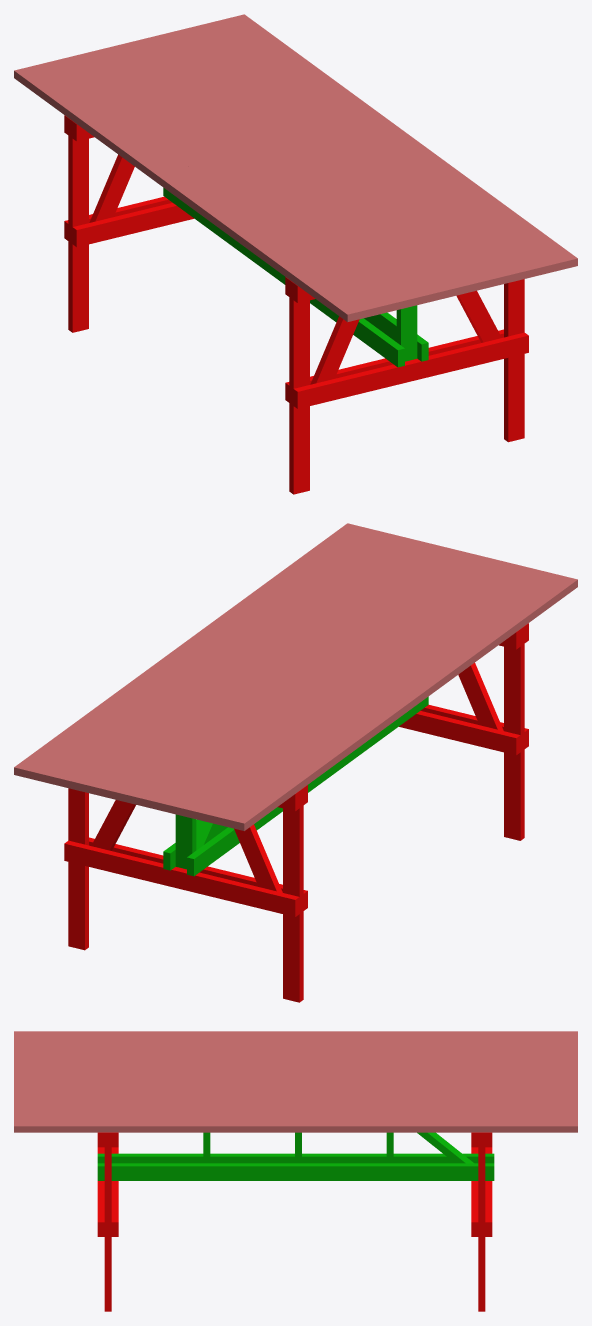
Rendered from result.glb.
3 renders of one model, top to bottom at view 1: azimuth 30°, elevation 25°; view 2: azimuth 150°, elevation 25°; view 3: azimuth 270°, elevation 25°, orthographic. The views are drawn at different scales.
Parts seen in each view (by area): view 1: 473cdb38-ce37-46b7-9735-61b5922310ae__Box, ce4c11eb-2231-41ee-94fe-1b60ac8f87da__undefined, 64e613a2-877d-4d5d-9598-2cf51b2af26d__undefined, 9a7f3290-f7af-41f7-a9cb-5846883ffda8__undefined, 4a5181dc-a1b4-45ff-892d-87f7e3f23f0a__undefined, 87a45efd-ccb7-475d-8371-d7f0d210c94f__undefined, 7ace6f95-4724-4a15-8e52-a62e8f4a9abf__undefined, 8e11eec6-f04e-4404-8d9b-cc2bd550de85__undefined, fd15b73f-ba91-4828-a78c-78e7e4c8aed9__undefined, c004c3a8-eb4a-4246-8391-f66e18d1e20d__undefined, cd6e7f04-1a90-4645-9a38-97e66174ea91__undefined, df4024ce-fba5-4627-b5f8-a8997b207734__undefined (+14 smaller); view 2: 473cdb38-ce37-46b7-9735-61b5922310ae__Box, ce4c11eb-2231-41ee-94fe-1b60ac8f87da__undefined, 64e613a2-877d-4d5d-9598-2cf51b2af26d__undefined, 7ace6f95-4724-4a15-8e52-a62e8f4a9abf__undefined, 4a5181dc-a1b4-45ff-892d-87f7e3f23f0a__undefined, 9a7f3290-f7af-41f7-a9cb-5846883ffda8__undefined, 87a45efd-ccb7-475d-8371-d7f0d210c94f__undefined, 8e11eec6-f04e-4404-8d9b-cc2bd550de85__undefined, fd15b73f-ba91-4828-a78c-78e7e4c8aed9__undefined, c004c3a8-eb4a-4246-8391-f66e18d1e20d__undefined, 3f78e9b1-15d5-4087-90e1-094ae0dc3102__undefined, 522a0430-13f4-46f0-8bca-25239249a129__undefined (+13 smaller); view 3: 3f78e9b1-15d5-4087-90e1-094ae0dc3102__undefined, 315d7c18-2b01-42b4-a0e8-ac6be6dd0ce3__strutH, cd6e7f04-1a90-4645-9a38-97e66174ea91__undefined, 9a7f3290-f7af-41f7-a9cb-5846883ffda8__undefined, df4024ce-fba5-4627-b5f8-a8997b207734__undefined, 64e613a2-877d-4d5d-9598-2cf51b2af26d__undefined, 7ace6f95-4724-4a15-8e52-a62e8f4a9abf__undefined, 8e11eec6-f04e-4404-8d9b-cc2bd550de85__undefined, 4a5181dc-a1b4-45ff-892d-87f7e3f23f0a__undefined, 473cdb38-ce37-46b7-9735-61b5922310ae__Box, 522a0430-13f4-46f0-8bca-25239249a129__undefined, ce4c11eb-2231-41ee-94fe-1b60ac8f87da__undefined (+11 smaller).
Boxes of the visible parts, x1,y1,x2,y2 form: 473cdb38-ce37-46b7-9735-61b5922310ae__Box: (14, 66, 363, 322); ce4c11eb-2231-41ee-94fe-1b60ac8f87da__undefined: (96, 46, 446, 301); 64e613a2-877d-4d5d-9598-2cf51b2af26d__undefined: (129, 38, 479, 293); 9a7f3290-f7af-41f7-a9cb-5846883ffda8__undefined: (63, 54, 413, 309); 4a5181dc-a1b4-45ff-892d-87f7e3f23f0a__undefined: (212, 18, 561, 273); 87a45efd-ccb7-475d-8371-d7f0d210c94f__undefined: (113, 42, 462, 297); 7ace6f95-4724-4a15-8e52-a62e8f4a9abf__undefined: (146, 34, 495, 289); 8e11eec6-f04e-4404-8d9b-cc2bd550de85__undefined: (162, 30, 511, 285); fd15b73f-ba91-4828-a78c-78e7e4c8aed9__undefined: (179, 26, 528, 281); c004c3a8-eb4a-4246-8391-f66e18d1e20d__undefined: (195, 22, 544, 277); cd6e7f04-1a90-4645-9a38-97e66174ea91__undefined: (47, 58, 396, 313); df4024ce-fba5-4627-b5f8-a8997b207734__undefined: (80, 50, 429, 305); 473cdb38-ce37-46b7-9735-61b5922310ae__Box: (228, 575, 577, 830); ce4c11eb-2231-41ee-94fe-1b60ac8f87da__undefined: (145, 555, 495, 810); 64e613a2-877d-4d5d-9598-2cf51b2af26d__undefined: (112, 547, 462, 802); 7ace6f95-4724-4a15-8e52-a62e8f4a9abf__undefined: (96, 543, 445, 798); 4a5181dc-a1b4-45ff-892d-87f7e3f23f0a__undefined: (30, 527, 379, 782); 9a7f3290-f7af-41f7-a9cb-5846883ffda8__undefined: (178, 563, 528, 818); 87a45efd-ccb7-475d-8371-d7f0d210c94f__undefined: (129, 551, 478, 806); 8e11eec6-f04e-4404-8d9b-cc2bd550de85__undefined: (80, 539, 429, 794); fd15b73f-ba91-4828-a78c-78e7e4c8aed9__undefined: (63, 535, 412, 790); c004c3a8-eb4a-4246-8391-f66e18d1e20d__undefined: (47, 531, 396, 786); 3f78e9b1-15d5-4087-90e1-094ae0dc3102__undefined: (14, 523, 363, 778); 522a0430-13f4-46f0-8bca-25239249a129__undefined: (211, 571, 561, 826); 3f78e9b1-15d5-4087-90e1-094ae0dc3102__undefined: (14, 1119, 577, 1132); 315d7c18-2b01-42b4-a0e8-ac6be6dd0ce3__strutH: (97, 1163, 494, 1180); cd6e7f04-1a90-4645-9a38-97e66174ea91__undefined: (14, 1044, 577, 1051); 9a7f3290-f7af-41f7-a9cb-5846883ffda8__undefined: (14, 1051, 577, 1058); df4024ce-fba5-4627-b5f8-a8997b207734__undefined: (14, 1058, 577, 1065); 64e613a2-877d-4d5d-9598-2cf51b2af26d__undefined: (14, 1078, 577, 1085); 7ace6f95-4724-4a15-8e52-a62e8f4a9abf__undefined: (14, 1085, 577, 1092); 8e11eec6-f04e-4404-8d9b-cc2bd550de85__undefined: (14, 1092, 577, 1099); 4a5181dc-a1b4-45ff-892d-87f7e3f23f0a__undefined: (14, 1112, 577, 1119); 473cdb38-ce37-46b7-9735-61b5922310ae__Box: (14, 1031, 577, 1037); 522a0430-13f4-46f0-8bca-25239249a129__undefined: (14, 1038, 577, 1044); ce4c11eb-2231-41ee-94fe-1b60ac8f87da__undefined: (14, 1065, 577, 1071).
Size of the model in its own units: 800 by 725 by 2000.
